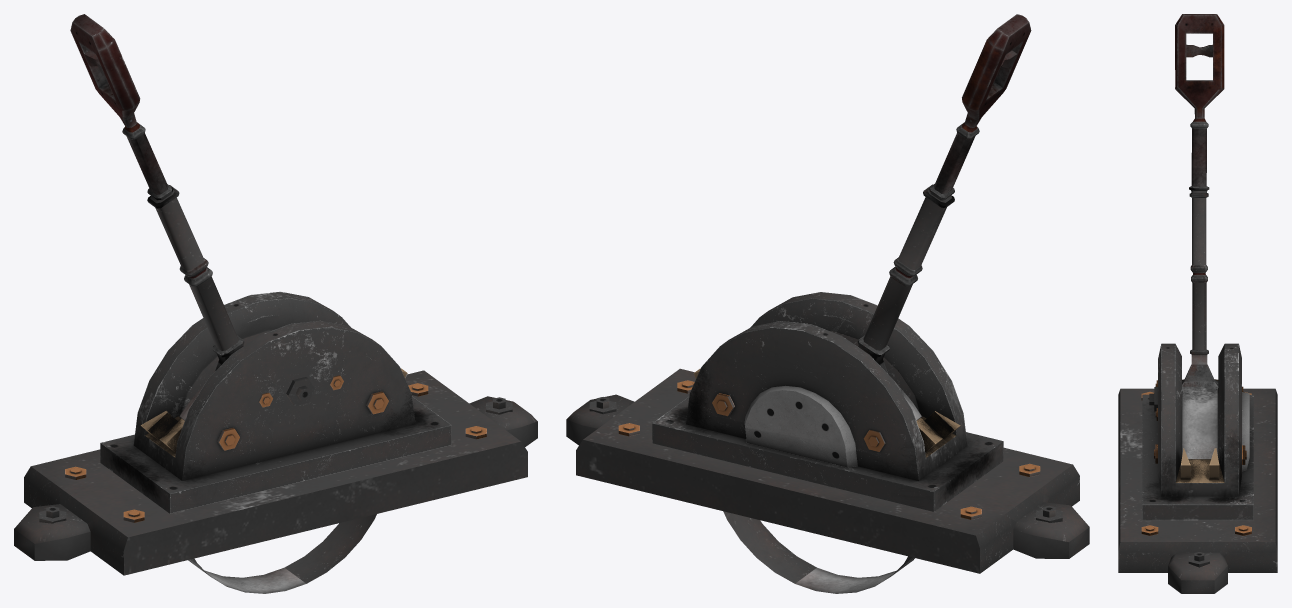
File: Floor Lever 01 Animatable.fbx
3 views of the same model, side by side, from view 1: azimuth 30°, elevation 25°; view 2: azimuth 150°, elevation 25°; view 3: azimuth 270°, elevation 25° (orthographic). The views are drawn at different scales.
Parts seen in each view (by area): view 1: Base, Lever; view 2: Base, Lever; view 3: Base, Lever.
Boxes of the visible parts, x1=… form: Base: x1=14, y1=291, x2=537, y2=575; Lever: x1=70, y1=14, x2=376, y2=593; Base: x1=566, y1=292, x2=1089, y2=573; Lever: x1=723, y1=14, x2=1031, y2=593; Base: x1=1118, y1=343, x2=1277, y2=593; Lever: x1=1175, y1=14, x2=1224, y2=458.
Size of the model in its own units: 166 by 192 by 57.23.
